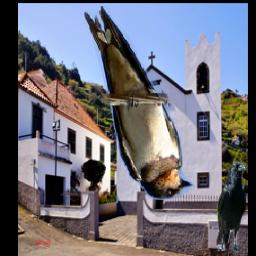Crow: (216, 161, 245, 251)
Swallow: (84, 7, 194, 201)
